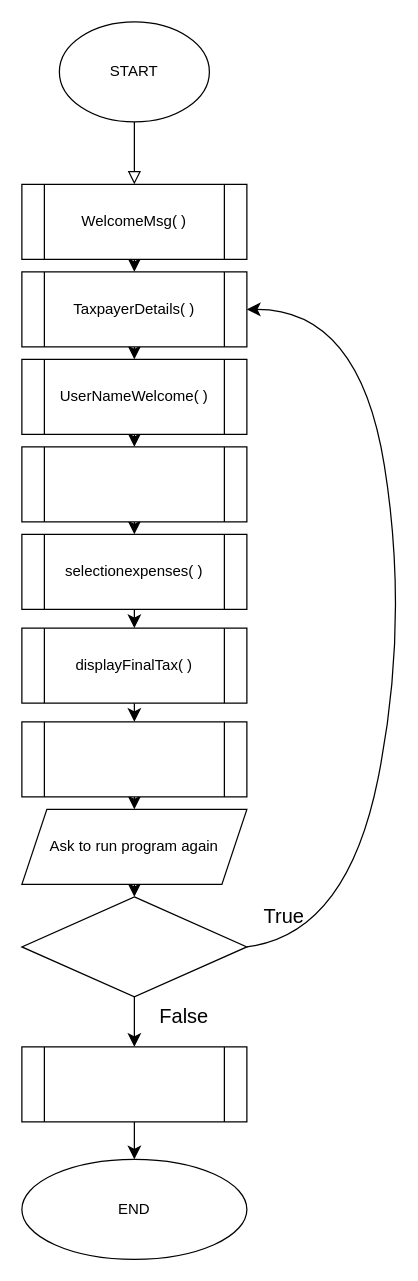
This 418x1281 diagram has some shape labels left out. Here are the shapes that lost their labels. From the top down, the centre of each, then its label:
At (134,484): "MainIncome( )".
At (134,759): "printDetailsToFile( )".
At (134,946): "calculateAgain == 'Y' || 'y'".
At (134,1084): "DisplayThankYou ( )".
